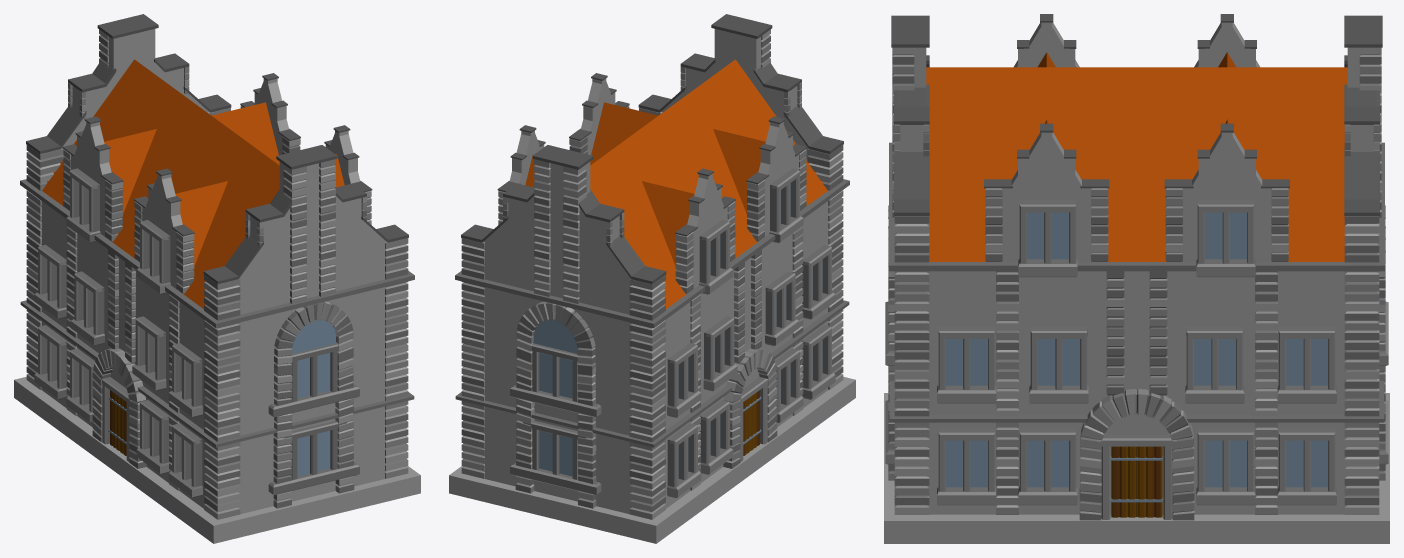
Rendered from castle_town_house_1.fbx.
3 views of the same model, side by side, from view 1: azimuth 30°, elevation 25°; view 2: azimuth 150°, elevation 25°; view 3: azimuth 270°, elevation 25° (orthographic). The views are drawn at different scales.
Parts seen in each view (by area): view 1: house.001; view 2: house.001; view 3: house.001.
Boxes of the visible parts, left/top/right/bottom form: house.001: left=14, top=14, right=420, bottom=543; house.001: left=449, top=14, right=855, bottom=543; house.001: left=884, top=14, right=1389, bottom=543.
Size of the model in its own units: 9998 by 9811 by 6031.
